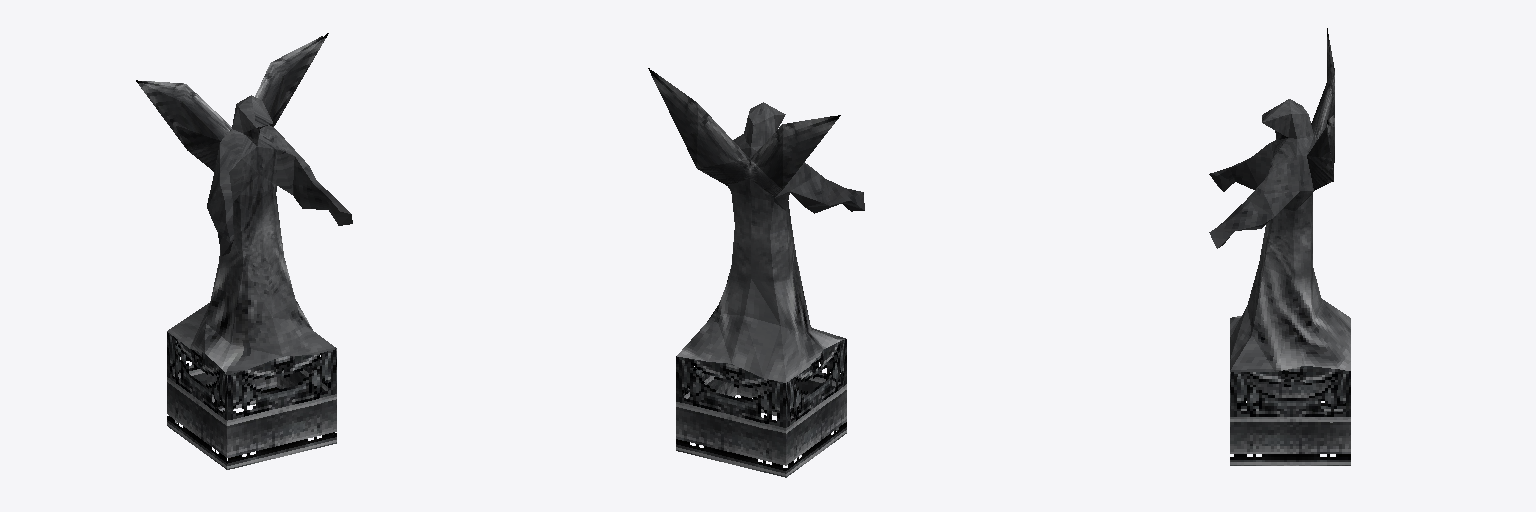
The picture shows the model from 3 angles: view 1: azimuth 30°, elevation 25°; view 2: azimuth 150°, elevation 25°; view 3: azimuth 270°, elevation 25°; orthographic projection.
Parts seen in each view (by area): view 1: Mesh_1, Mesh_0; view 2: Mesh_1, Mesh_0; view 3: Mesh_1, Mesh_0.
Part boxes in pixels (left/top/right/bottom): Mesh_1: left=136, top=33, right=352, bottom=375; Mesh_0: left=167, top=332, right=336, bottom=469; Mesh_1: left=648, top=68, right=864, bottom=382; Mesh_0: left=676, top=339, right=846, bottom=477; Mesh_1: left=1209, top=28, right=1350, bottom=371; Mesh_0: left=1230, top=366, right=1350, bottom=465.
Bounding box in the file's own units: 1.47 × 2.65 × 0.9324.
2 materials, 2 textured.